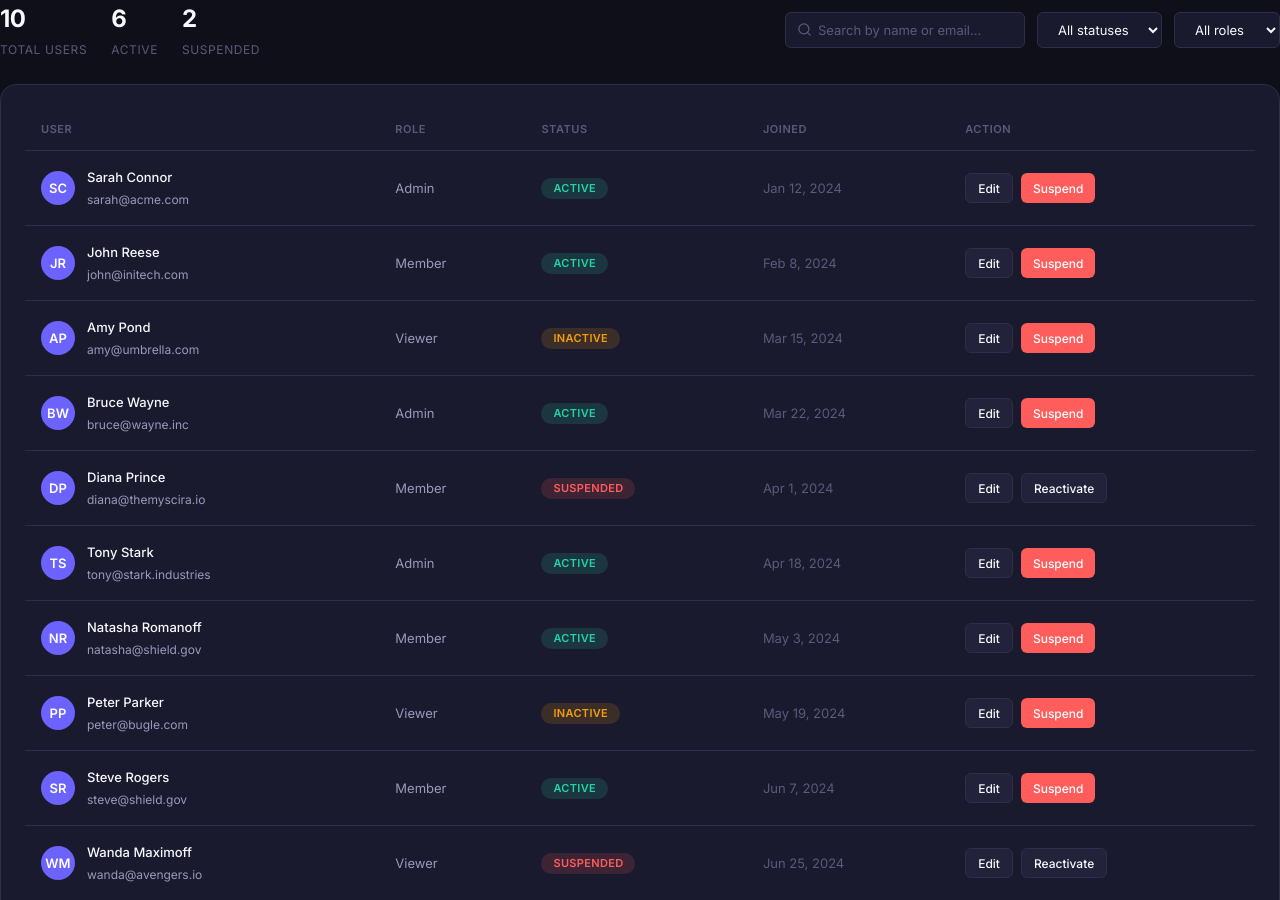
Test: editing a user › opens with the user’s current details
Expected: the text "Sarah Connor" is shown, [87,169,172,185]
Click the button "Edit" in the row of "Sarah Connor": (989, 188) [965,173,1013,203]
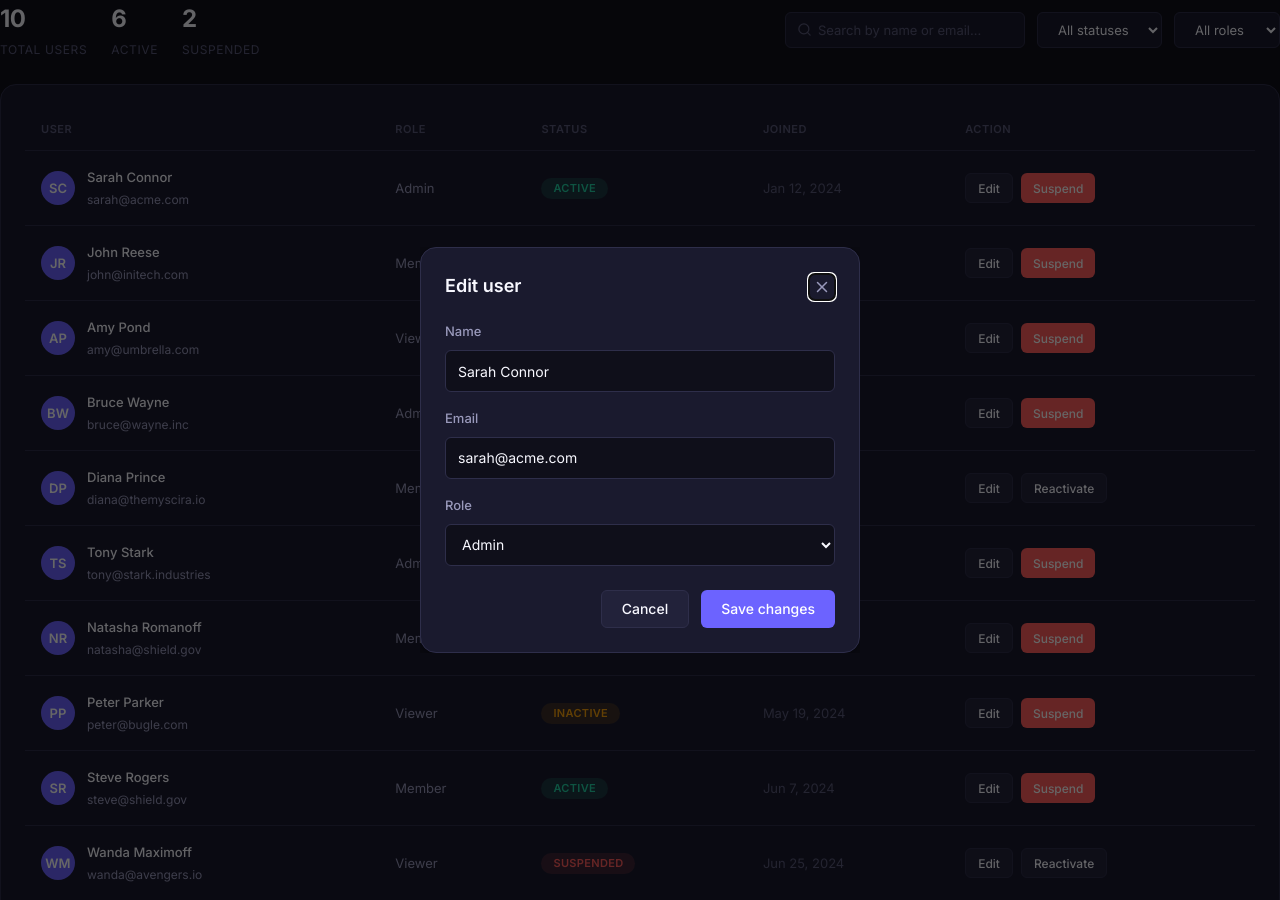
Result: the field labelled "Name" holds "Sarah Connor" at [445,350,835,392]
Result: the field labelled "Email" holds "sarah@acme.com" at [445,437,835,479]
Result: the dropdown labelled "Role" shows "Admin" at [445,524,835,566]
